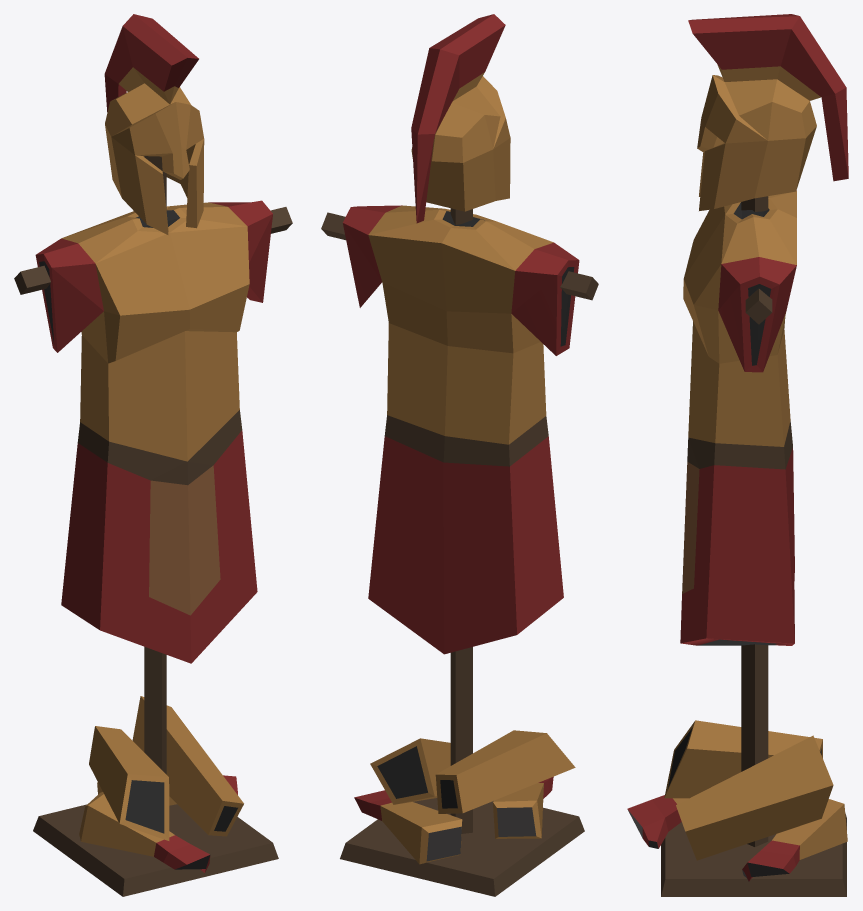
The model's file is empire-armor-stand-spartan-empire.glb.
3 renders of one model, left to right at view 1: azimuth 30°, elevation 25°; view 2: azimuth 150°, elevation 25°; view 3: azimuth 270°, elevation 25°, orthographic. The views are drawn at different scales.
Parts seen in each view (by area): view 1: SM_Armor_Stand_Spartan_Empire; view 2: SM_Armor_Stand_Spartan_Empire; view 3: SM_Armor_Stand_Spartan_Empire.
Part boxes in pixels (x1,y1,x2,y2): SM_Armor_Stand_Spartan_Empire: [14, 14, 292, 896]; SM_Armor_Stand_Spartan_Empire: [321, 14, 598, 896]; SM_Armor_Stand_Spartan_Empire: [627, 14, 848, 896].
Bounding box in the file's own units: 0.6689 × 1.96 × 0.4678.
